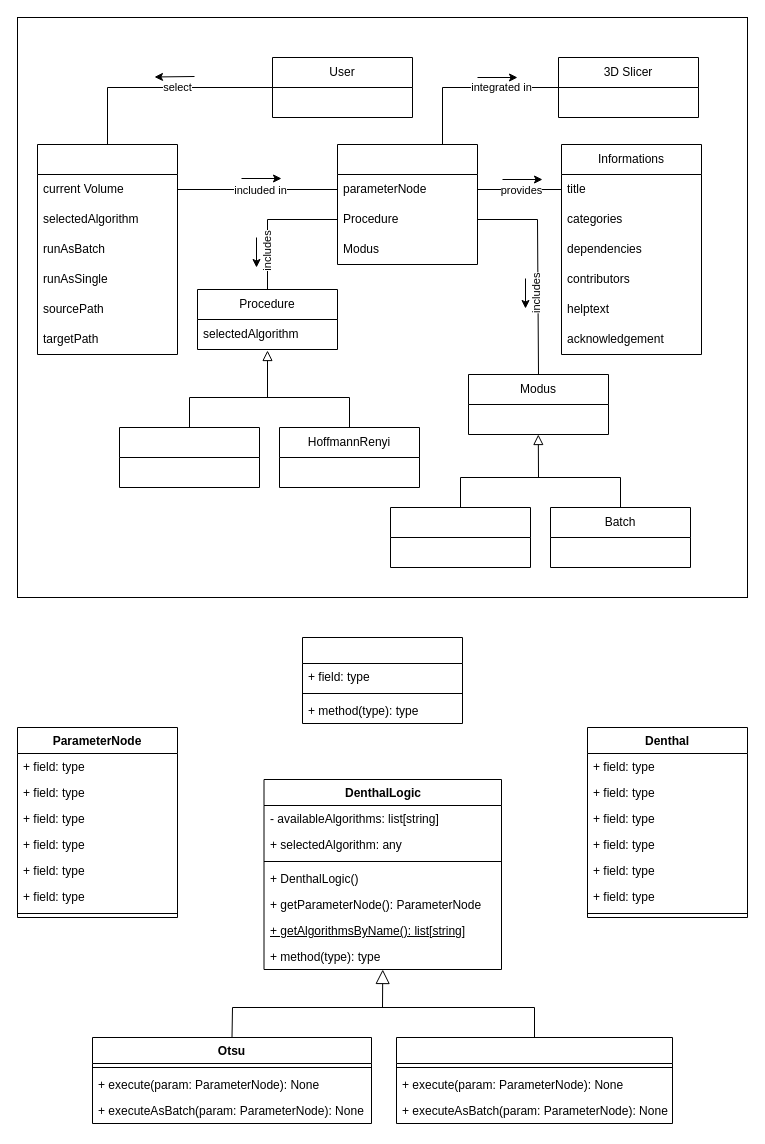
The diagram is 765 pixels wide and 1144 high, and some of its shapes have lost their labels. The shapes that lost their labels are listed below. From the top down, each one's box as (x1, y1, x2, y2) in pixels, then its label:
(336, 144, 478, 264): UI
(36, 144, 178, 354): Parameter
(118, 426, 260, 488): HoffmannOtsu
(390, 506, 530, 568): Single
(302, 636, 462, 724): DenthalWidget
(396, 1036, 672, 1124): Renyi
